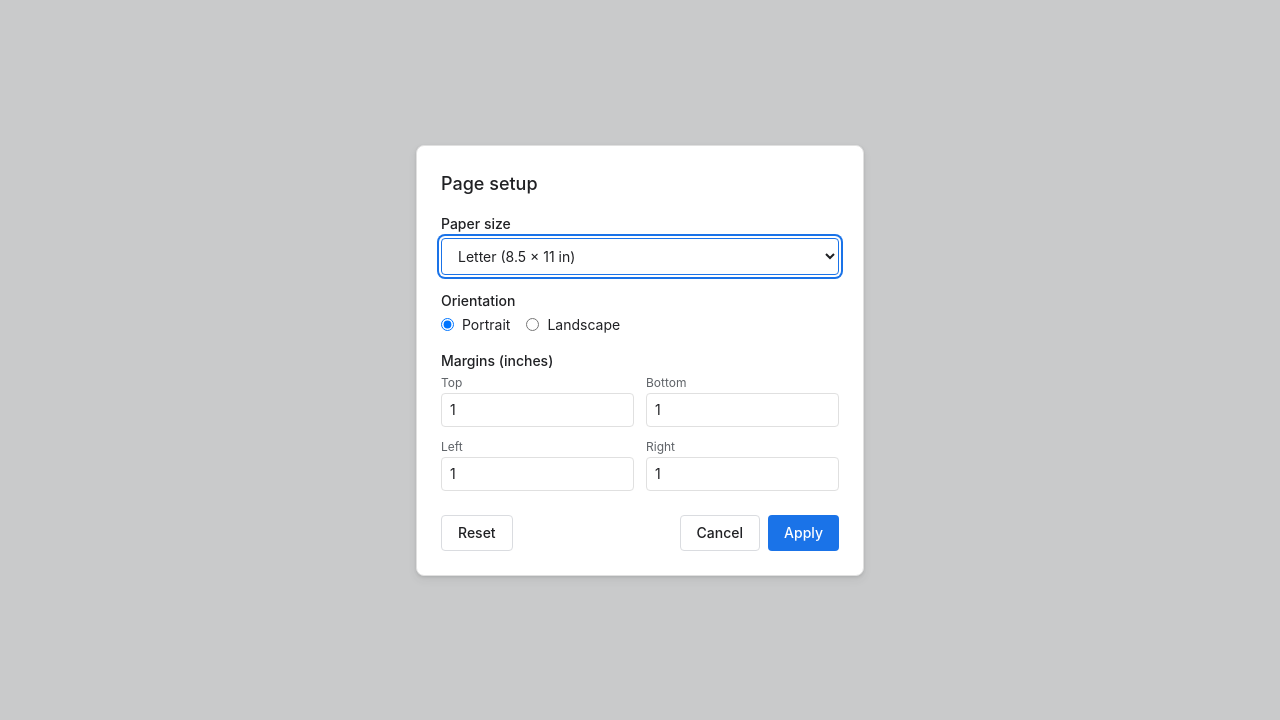
Test: PageSetupDialog › does not treat a half-typed margin as a value
Clear the number field labelled "Top" at {"x": 538, "y": 410}, box [441,392,634,426]
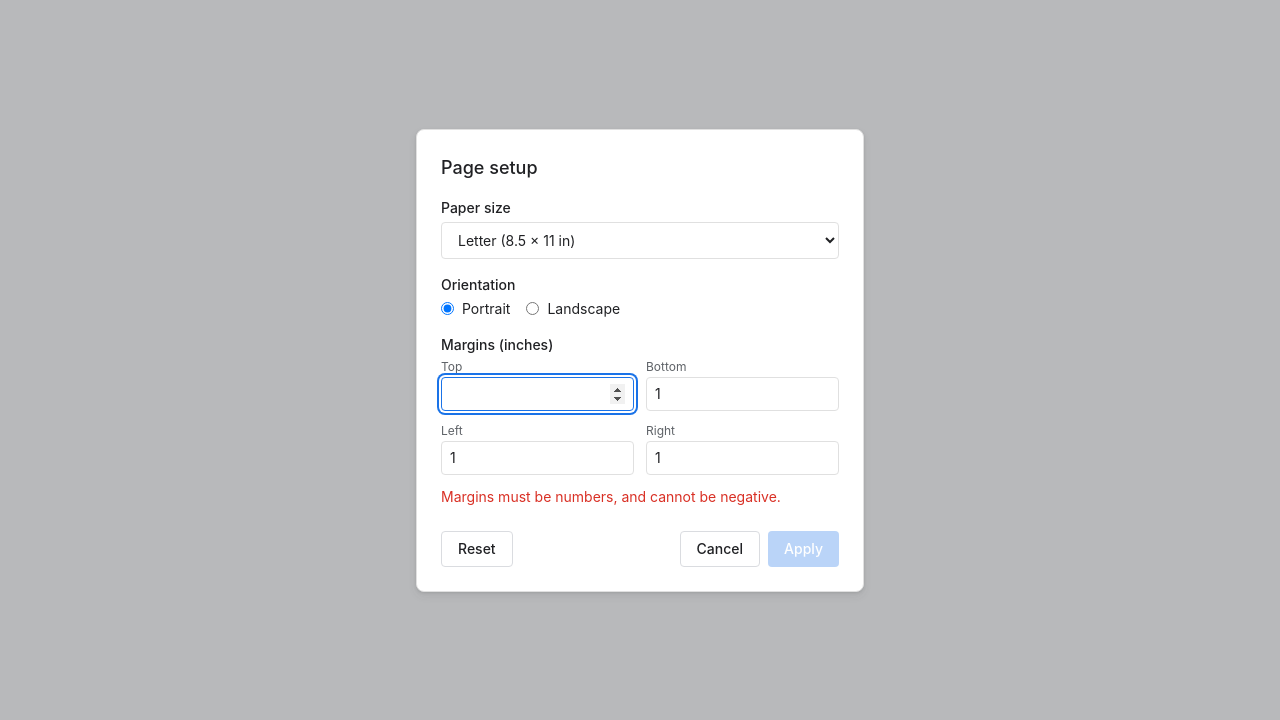
Check: the button "Apply" is disabled, box [768,530,839,566]
